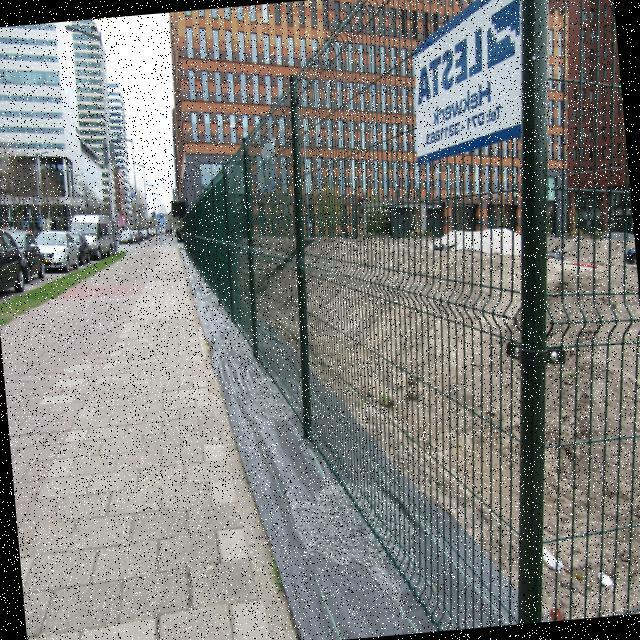fence line: (263, 0, 639, 639), (171, 130, 333, 360)
